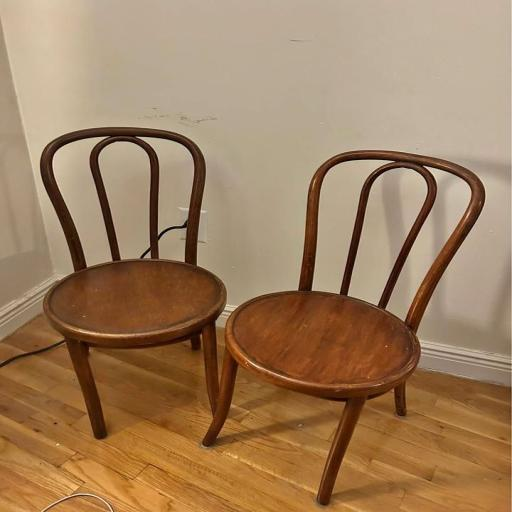bus: (203, 151, 484, 505), (41, 128, 226, 438)
